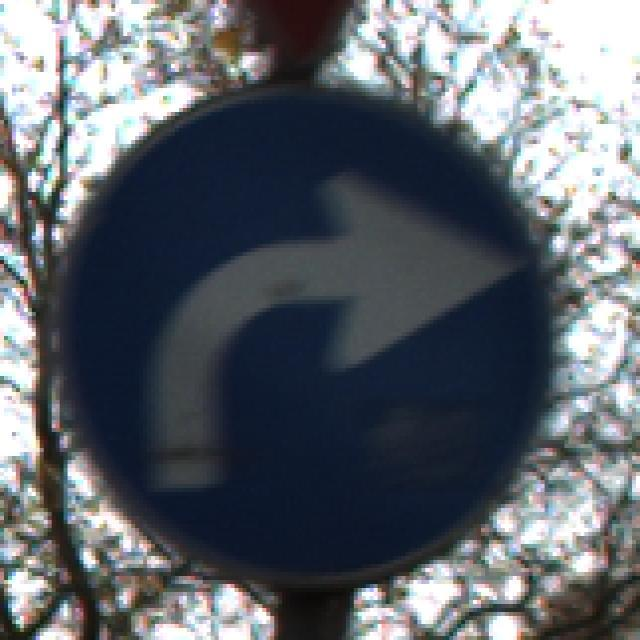compulsary turn right ahead: (64, 85, 554, 586)
